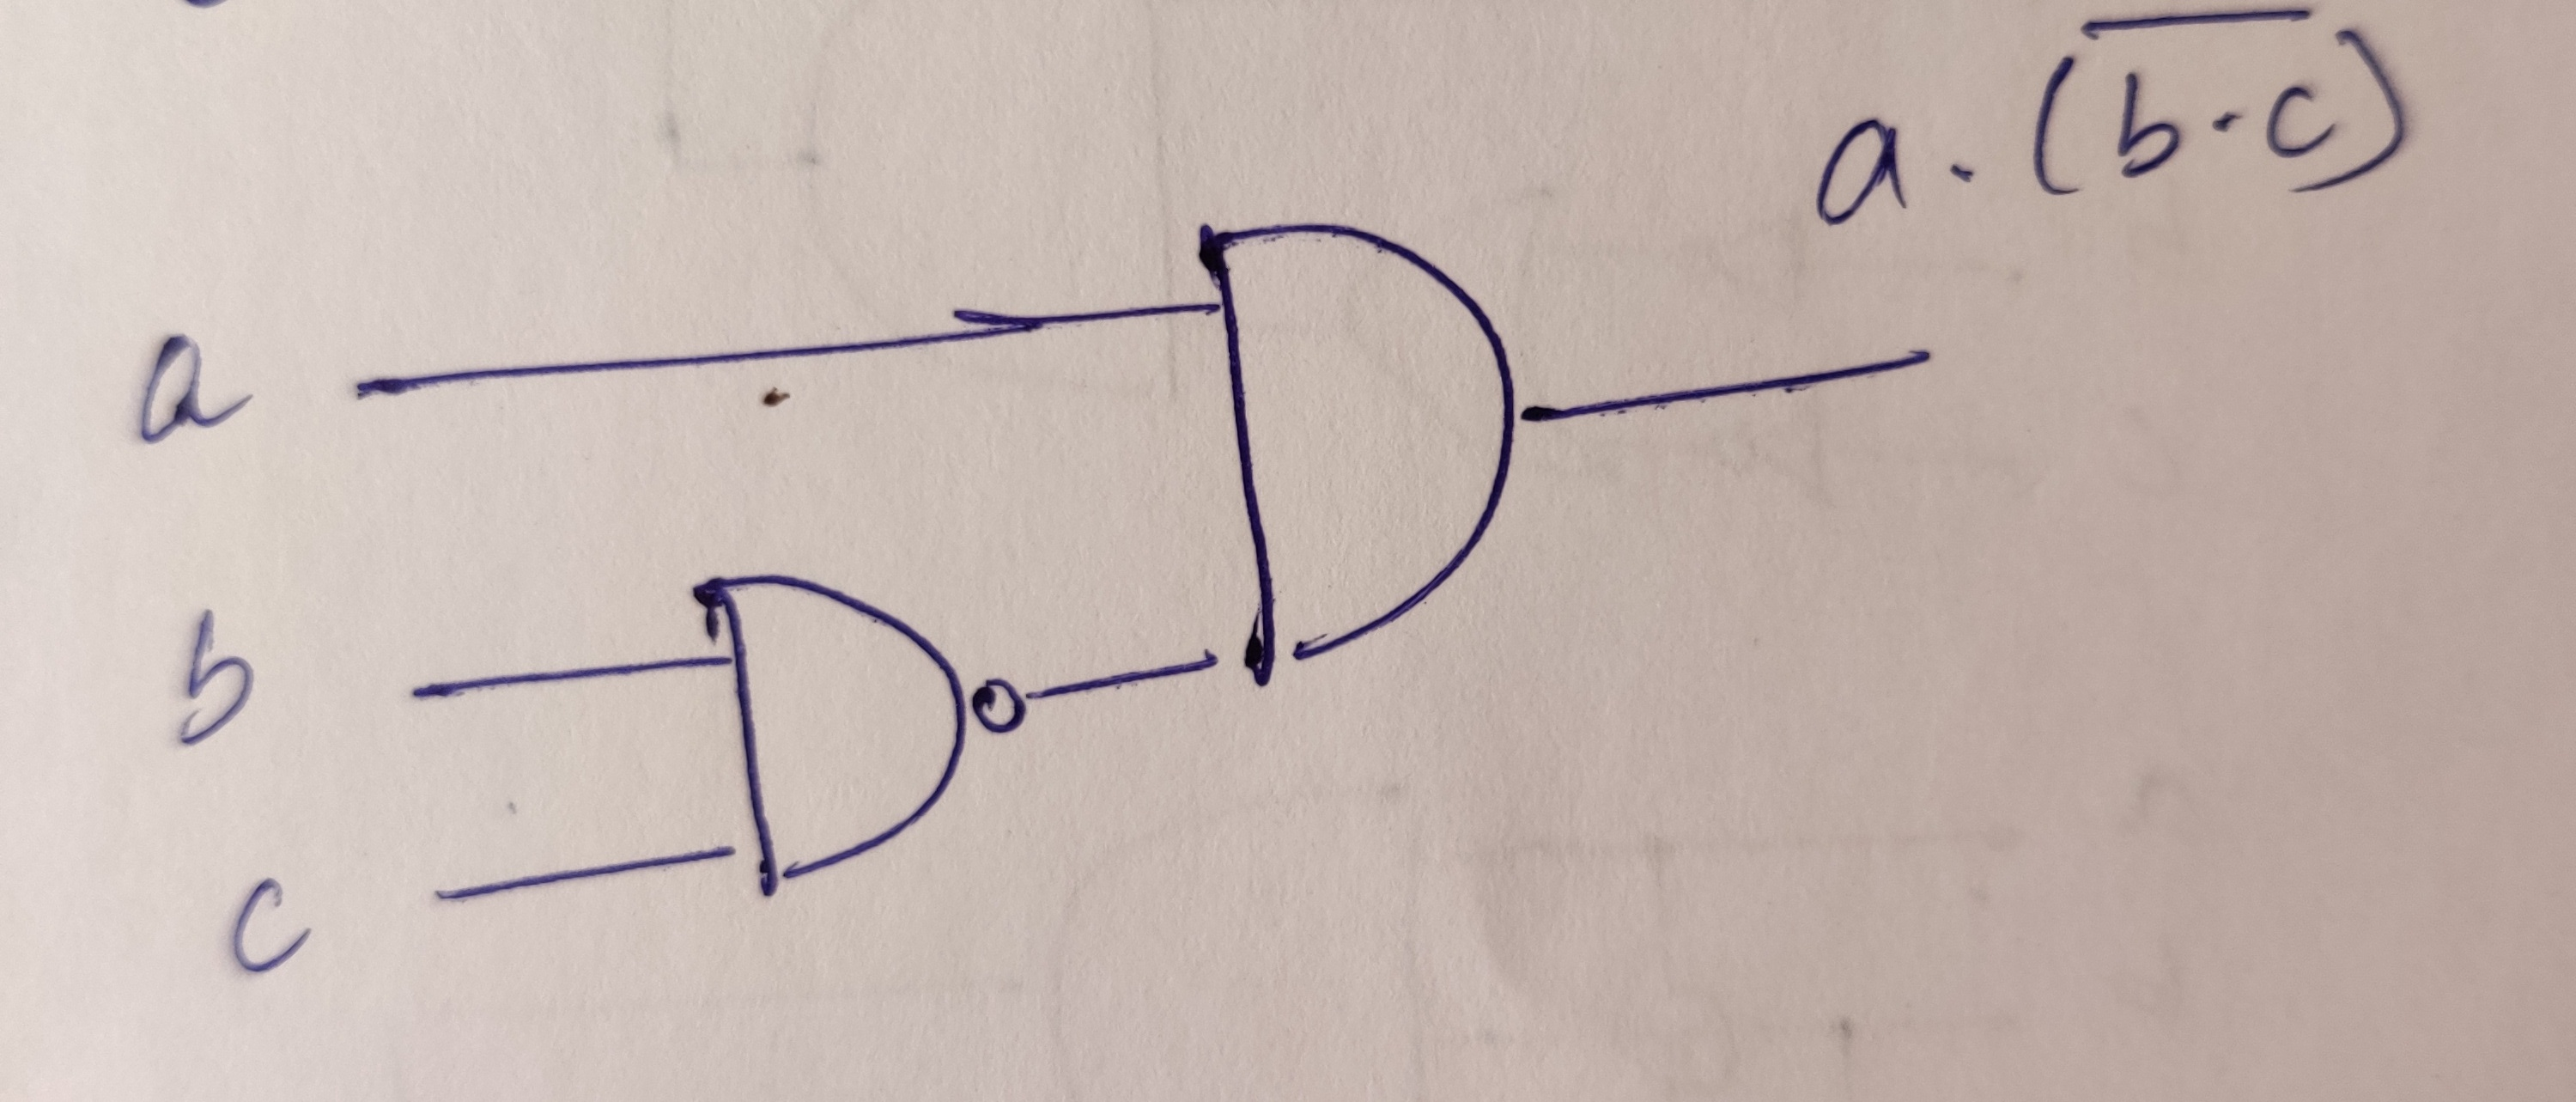and: (1138, 159, 1615, 752)
nand: (652, 519, 1091, 961)
